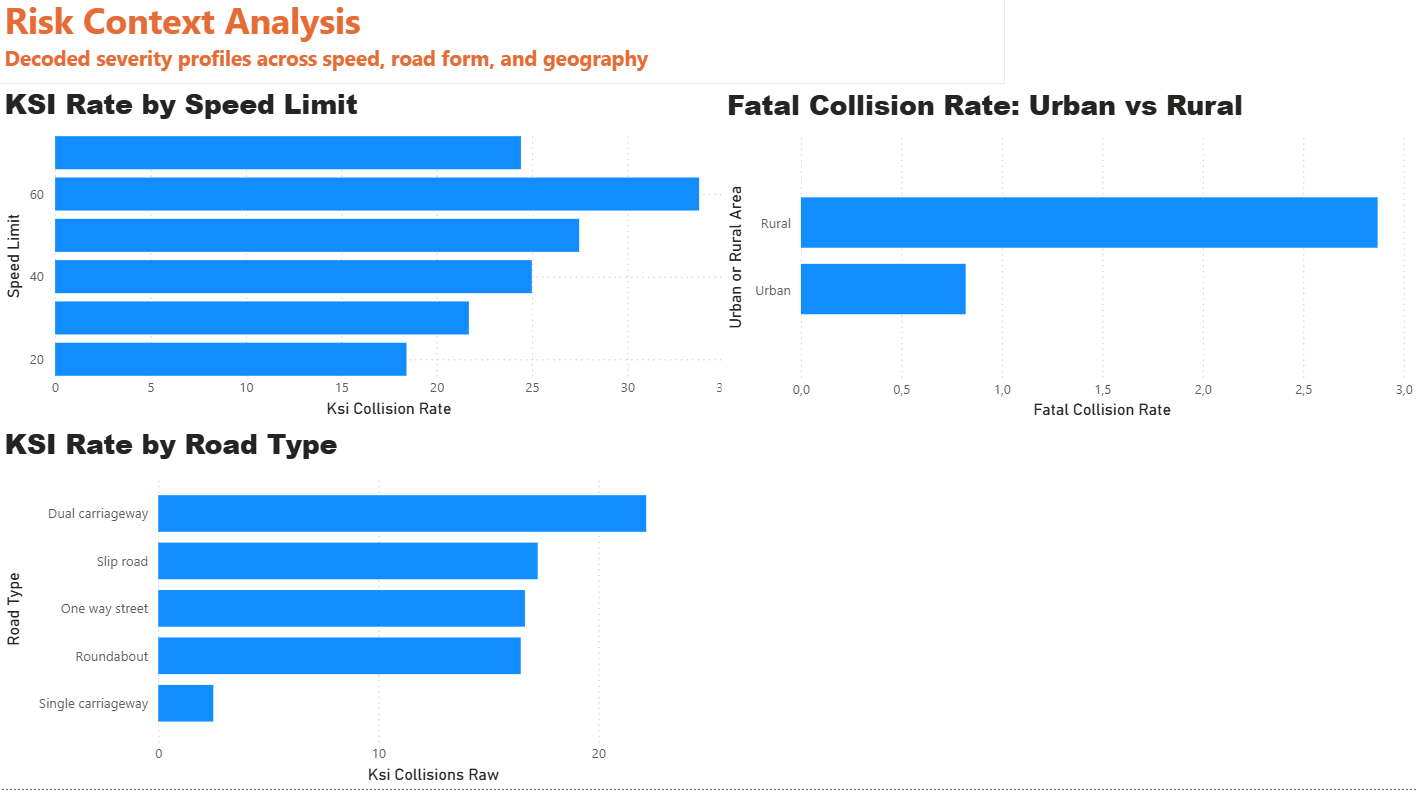

This screenshot's page, from the dashboard's own definition file:
{"tool":"powerbi","page":{"name":"Risk Context Analysis","canvas":[1280,720],"ordinal":1},"visuals":[{"type":"textbox","box":[0,0,907,84.8],"z":0},{"type":"barChart","title":"KSI Rate by Speed Limit","fields":{"Category":["speed_limit_severity_profile_core_v1.speed_limit"],"Y":["kpi_collision_overview_v1.Ölçü 2"]},"box":[0,84.8,664.8,305.4],"z":1000},{"type":"barChart","title":"KSI Rate by Road Type","fields":{"Category":["road_type_severity_profile_decoded_v1.road_type_label"],"Y":["road_type_severity_profile_decoded_v1.Ölçü 3"]},"box":[0,390.9,651.9,328.9],"z":2000},{"type":"barChart","title":"Fatal Collision Rate: Urban vs Rural","fields":{"Category":["urban_rural_severity_profile_decoded_v1.urban_or_rural_area_label"],"Y":["road_type_severity_profile_decoded_v1.Ölçü 4"]},"box":[651.9,85.5,628.3,305.3],"z":3000}]}

Visuals, with their boxes in screenshot pixels (x1, y1, x2, y2), scaled from the page's 1280x720 canvas onto the 1418x790 screenshot:
textbox: bbox=(0, 0, 1005, 93)
"KSI Rate by Speed Limit" barChart: bbox=(0, 93, 736, 428)
"KSI Rate by Road Type" barChart: bbox=(0, 429, 722, 789)
"Fatal Collision Rate: Urban vs Rural" barChart: bbox=(722, 94, 1417, 429)
